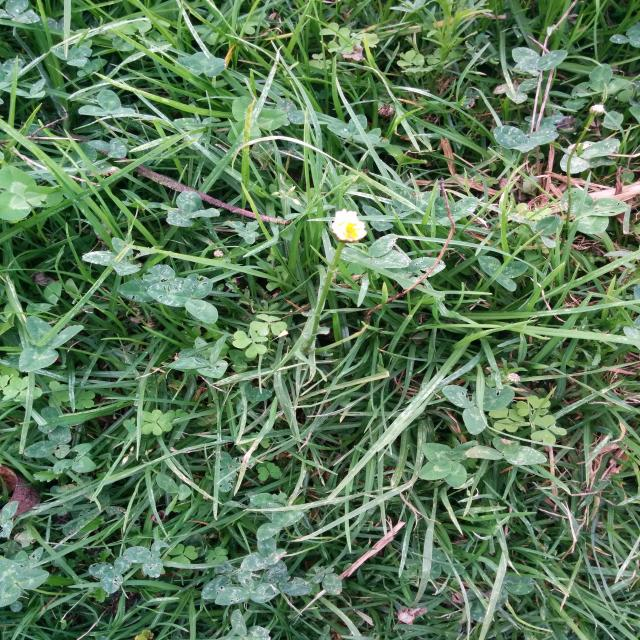Four Leaf Clover: (418, 440, 478, 488)
